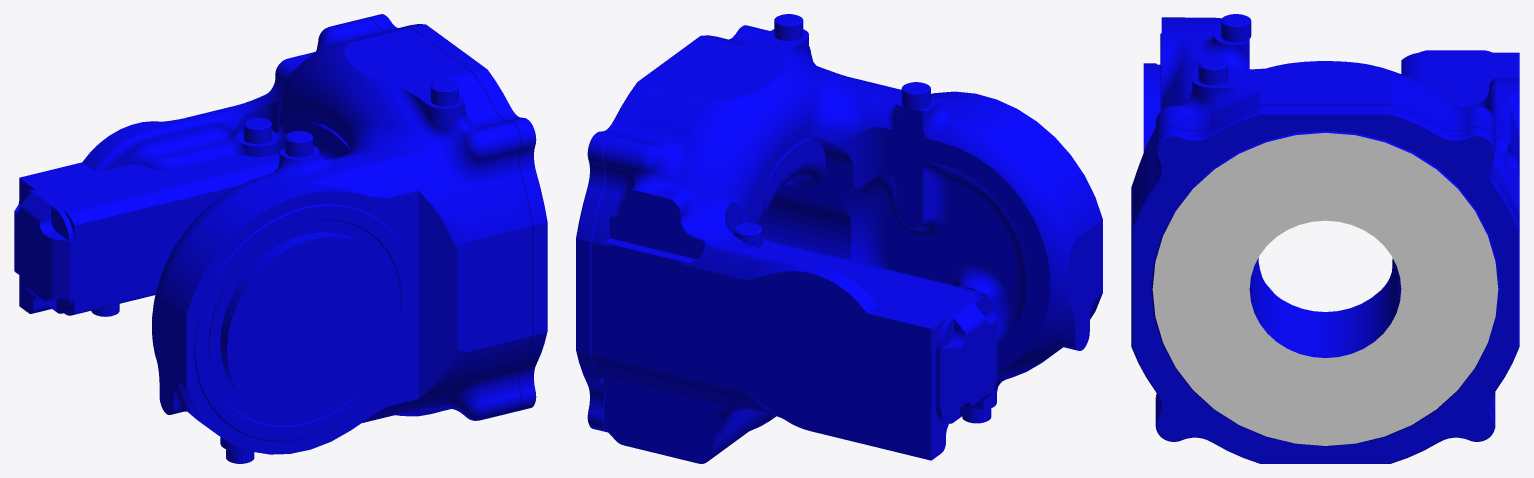
3 renders of one model, left to right at view 1: azimuth 30°, elevation 25°; view 2: azimuth 150°, elevation 25°; view 3: azimuth 270°, elevation 25°, orthographic. The views are drawn at different scales.
Visible parts, largest first — view 1: gp12_link_5_b; view 2: gp12_link_5_b; view 3: gp12_link_5_b.
Part boxes in pixels (<box>): gp12_link_5_b: <box>14,14,547,463</box>; gp12_link_5_b: <box>576,14,1102,463</box>; gp12_link_5_b: <box>1131,14,1519,463</box>.
Size of the model in its own units: 0.1488 by 0.128 by 0.134.
